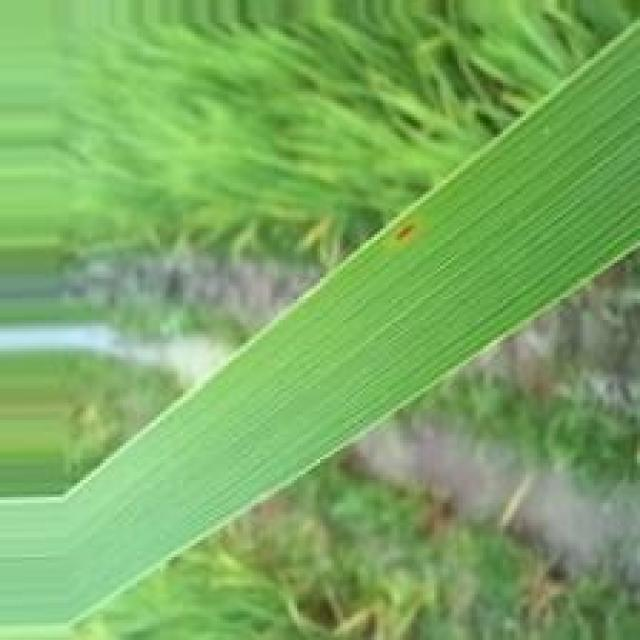Brown_Spot: (383, 221, 425, 248)
